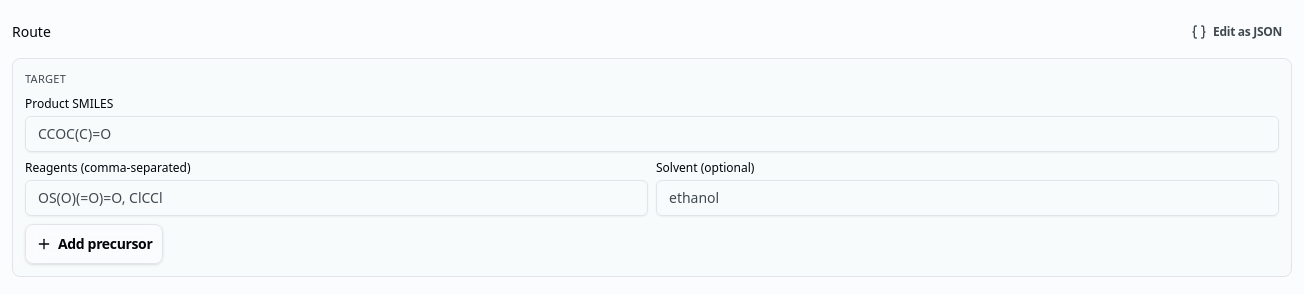
Test: RouteTreeField › keeps builder and emitted value in sync after clearing the raw JSON
Type "CCO" into the field named "Target SMILES" at (652, 134), box [25, 116, 1279, 152]
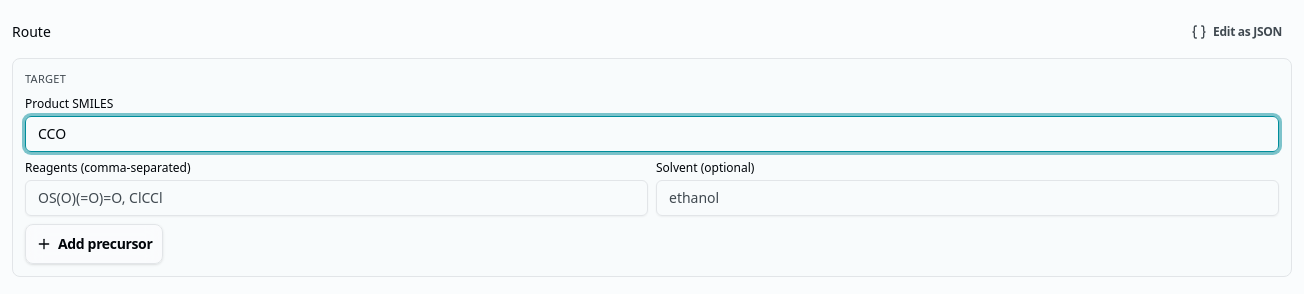
Click the button "Edit as JSON" at (1237, 32), box [1181, 12, 1292, 52]
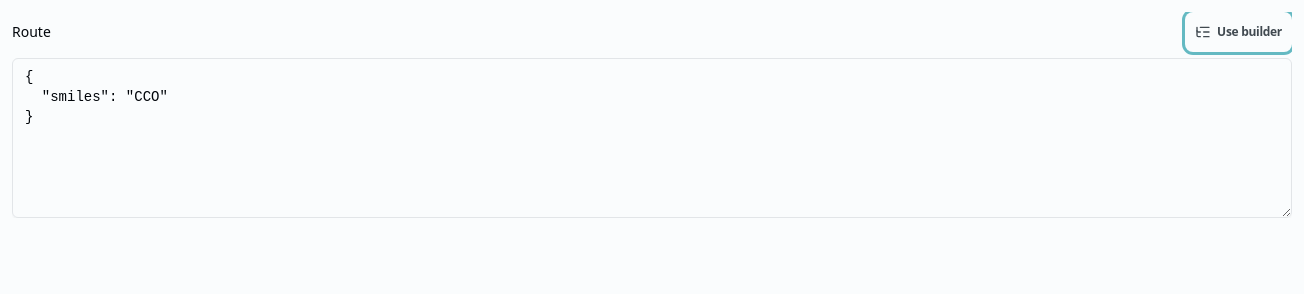
Clear the text box named "Route (raw JSON)" at (652, 138), box [12, 58, 1292, 218]
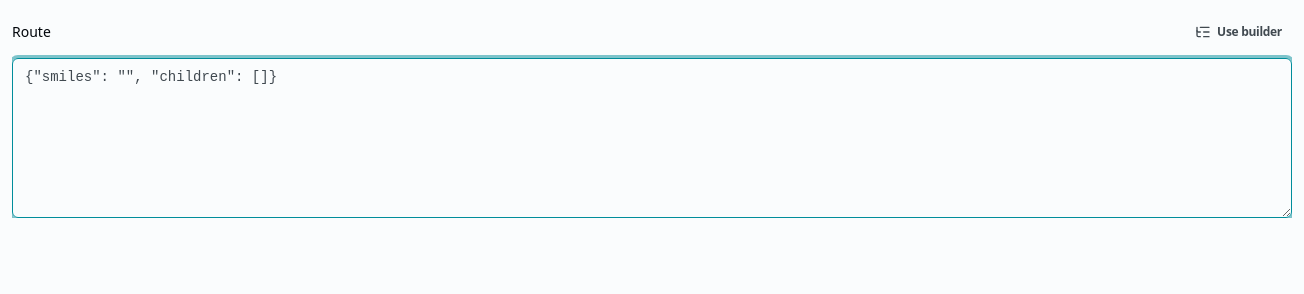
Click the button "Use builder" at (1239, 32), box [1185, 12, 1292, 52]
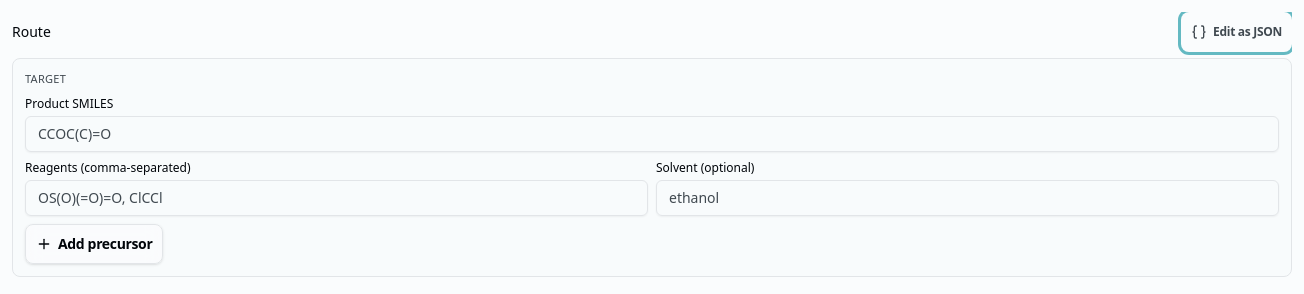
Expected: the field named "Target SMILES" is empty, [25, 116, 1279, 152]
